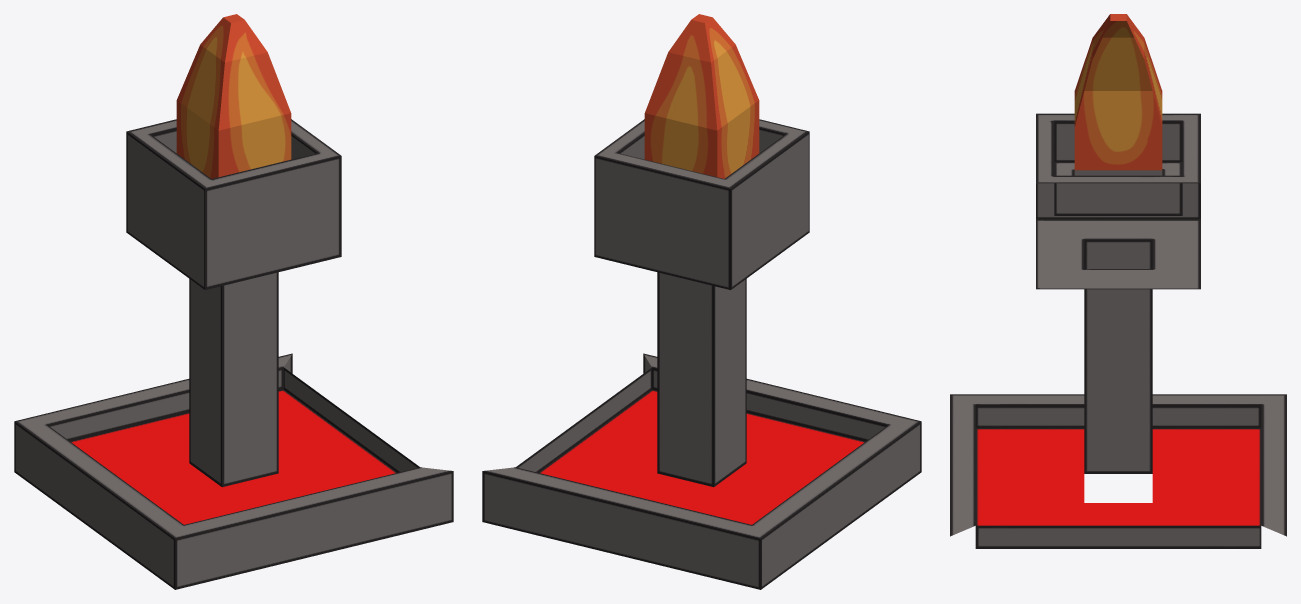
Rendered from Chechpoint on.fbx.
The picture shows the model from 3 angles, left to right: view 1: azimuth 30°, elevation 25°; view 2: azimuth 150°, elevation 25°; view 3: azimuth 270°, elevation 25°; orthographic projection. The views are drawn at different scales.
Visible parts, largest first — view 1: Cube; view 2: Cube; view 3: Cube.
Boxes of the visible parts, left/top/right/bottom form: Cube: left=14, top=14, right=453, bottom=589; Cube: left=482, top=14, right=921, bottom=589; Cube: left=950, top=14, right=1286, bottom=548.
Bounding box in the file's own units: 738 × 1213 × 738.
